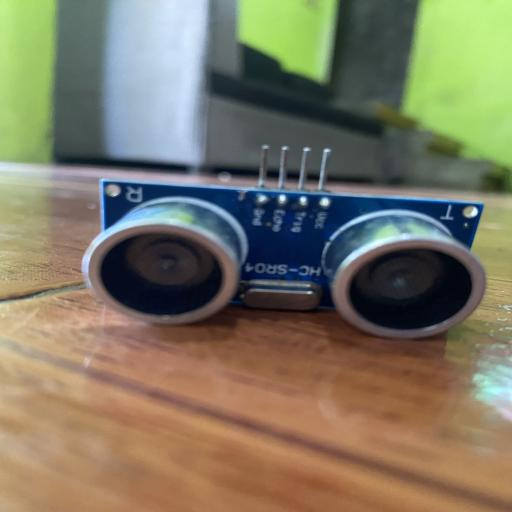Ultrasonic Sensor: (80, 141, 488, 341)
